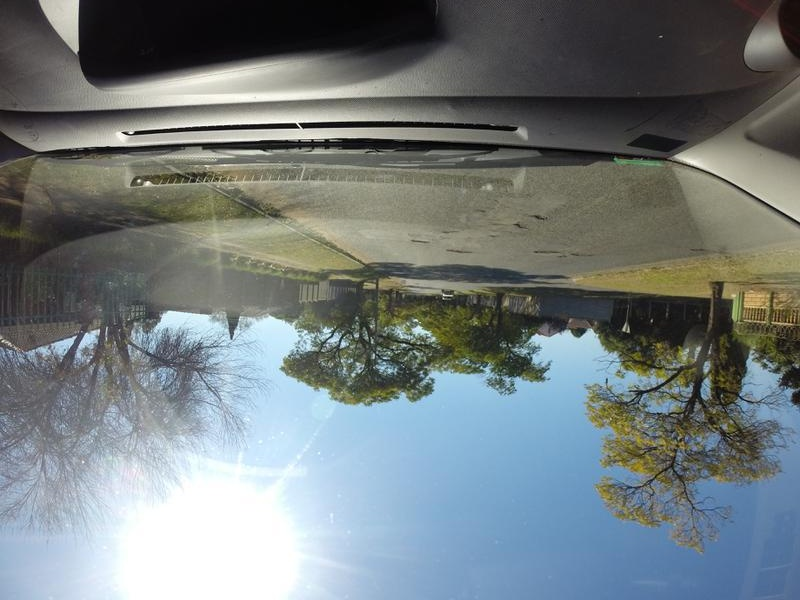pothole: (532, 244, 565, 260), (508, 220, 534, 237), (443, 246, 475, 257), (407, 235, 432, 249), (526, 210, 551, 223), (569, 249, 597, 260)
